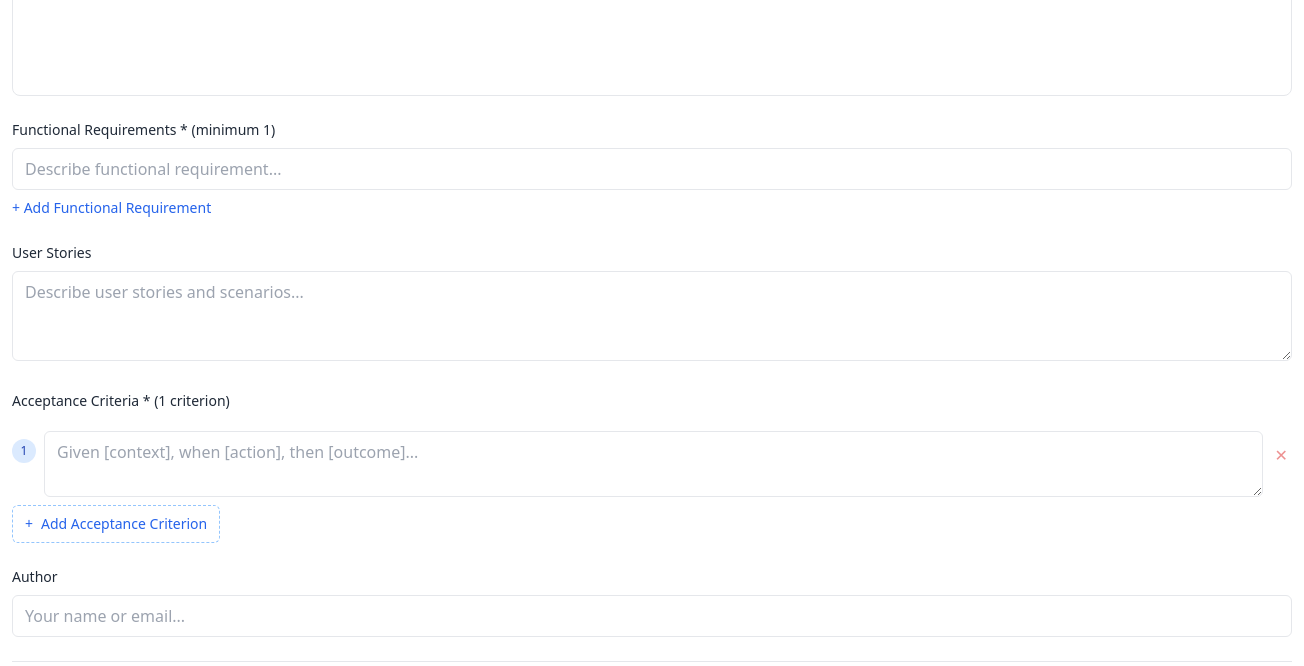
Test case: RequirementForm - Acceptance Criteria Management › Content Management › should preserve content when reordering
(page scrolled)
# Add content to first criterion
Click the text box with placeholder "Given [context], when [action], then [outcome]...". click: {"x": 653, "y": 464}
box: [44,431,1263,497]
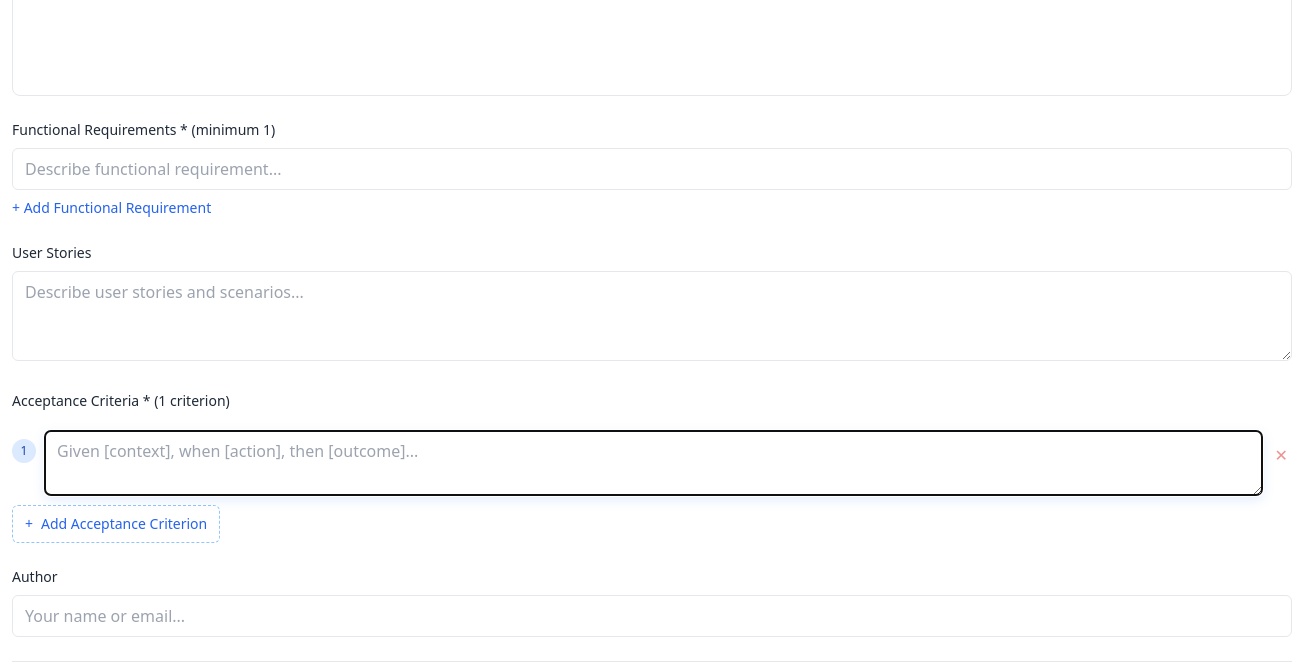
Type "User can login successfully" into the text box with placeholder "Given [context], when [action], then [outcome]...". click: {"x": 653, "y": 463}
box: [44,430,1263,496]
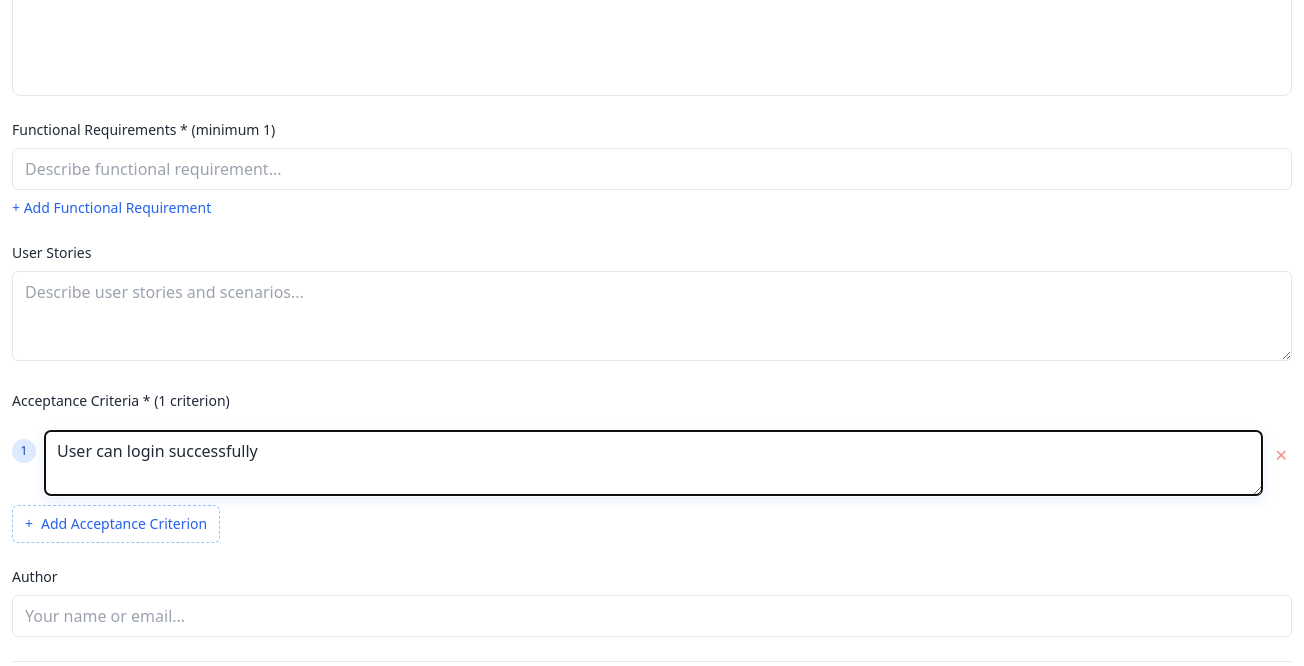
# Add another criterion
Click the button titled "Add acceptance criterion". click: {"x": 116, "y": 524}
box: [12,505,220,543]
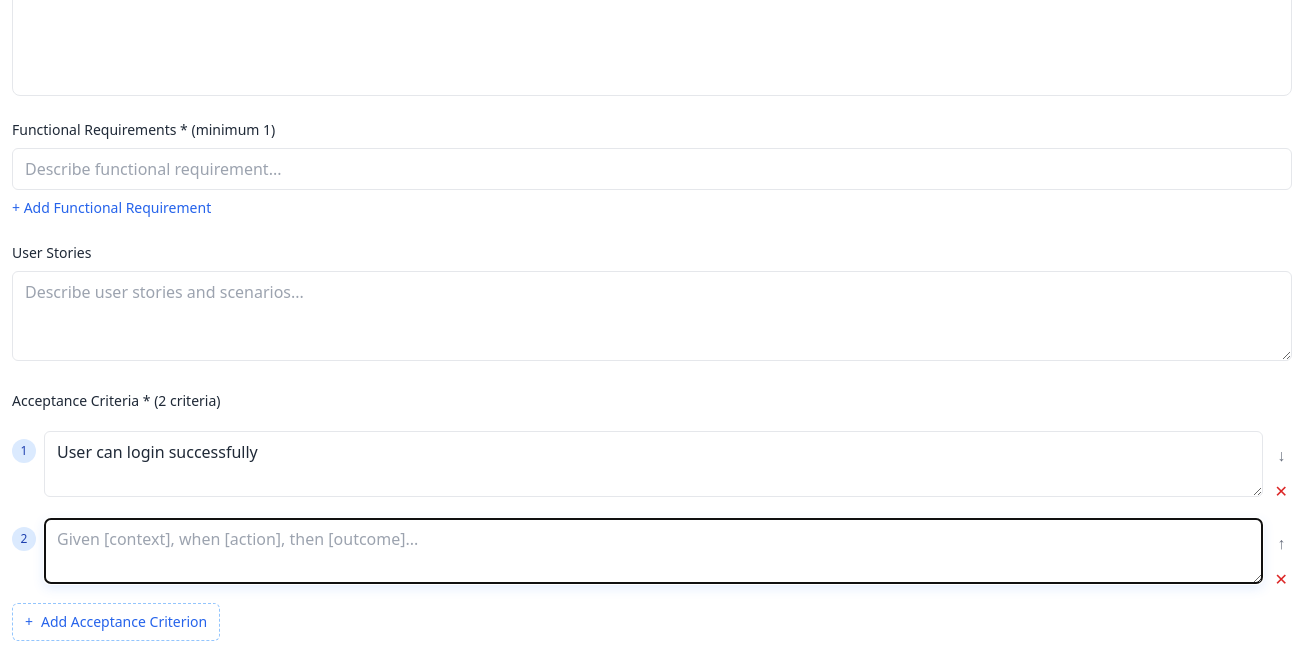
# Add content to second criterion
Type "User receives confirmation message" into the text box with placeholder "Given [context], when [action], then [outcome]...". click: {"x": 653, "y": 551}
box: [44,518,1263,584]
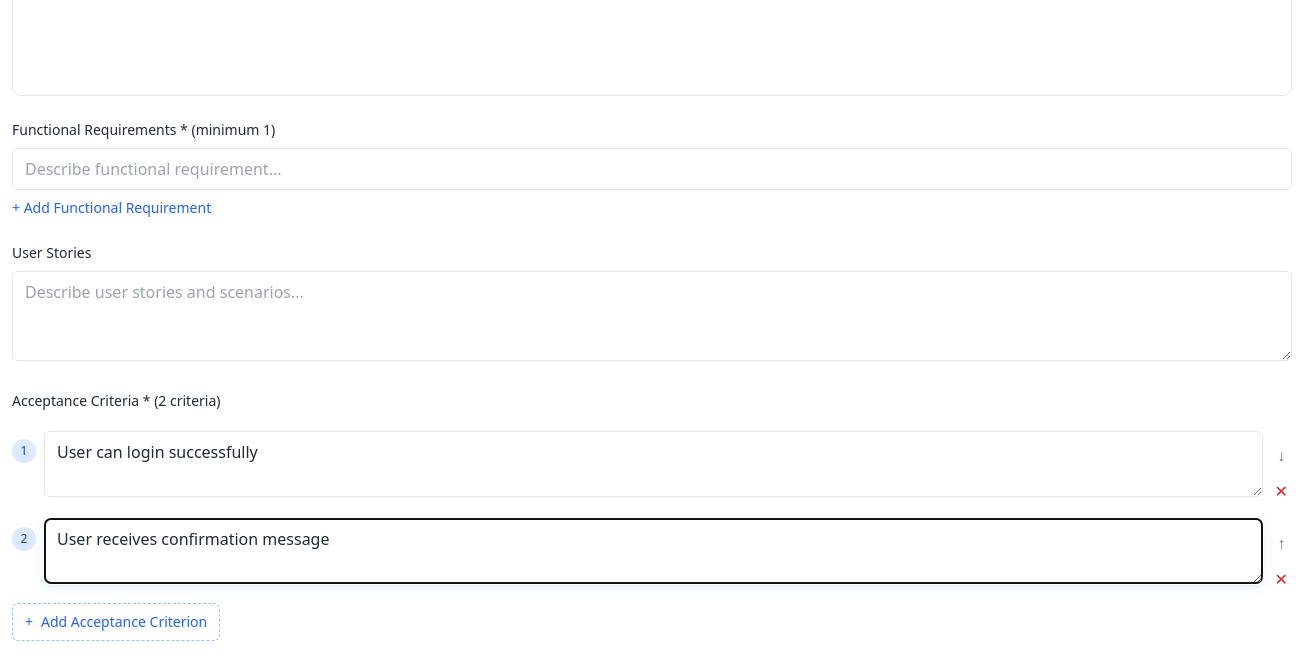
# Move second criterion up
Click the button titled "Move up". click: {"x": 1281, "y": 543}
box: [1271,527,1292,559]
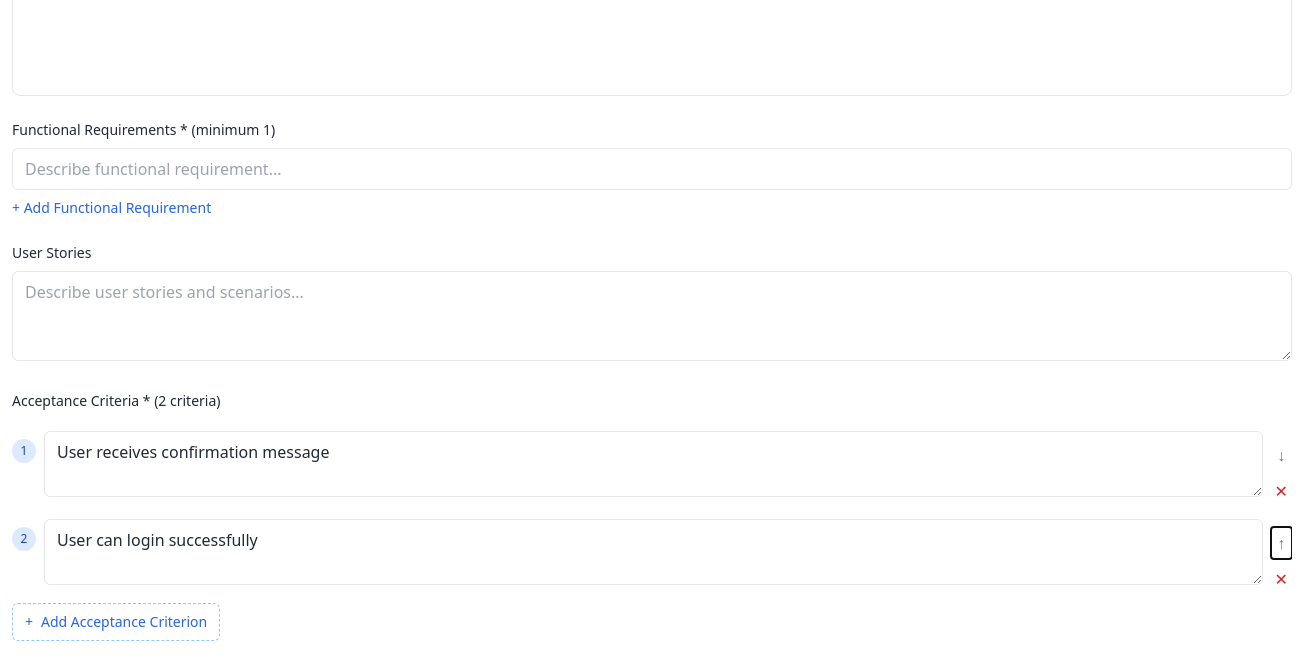
Expected: the 1st text box with placeholder "Given [context], when [action], then [outcome]..." holds "User receives confirmation message", [44,431,1263,497]
Expected: the 2nd text box with placeholder "Given [context], when [action], then [outcome]..." holds "User can login successfully", [44,519,1263,585]
